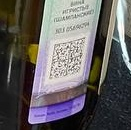2d: (47, 36, 85, 80)
